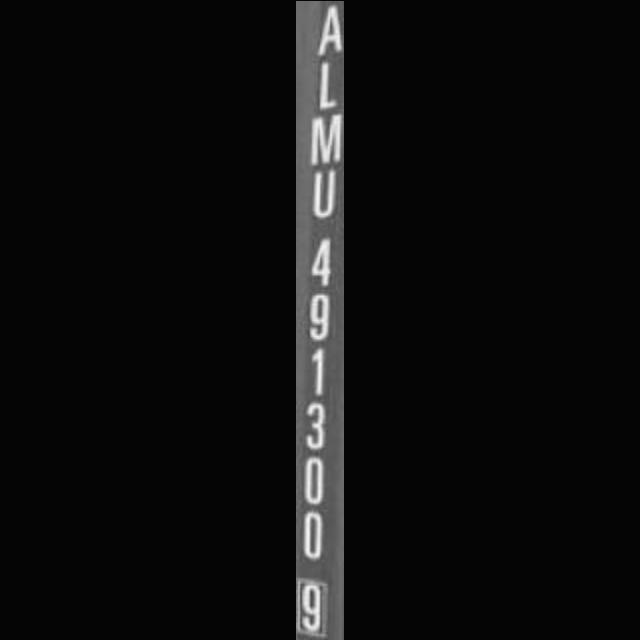0: (296, 447, 336, 511), (296, 508, 334, 570)
1: (296, 344, 344, 396)
3: (296, 396, 344, 452)
4: (298, 225, 344, 289)
9: (296, 288, 344, 344), (298, 572, 332, 640)
a: (311, 0, 344, 56)
l: (304, 53, 344, 114)
m: (298, 110, 344, 172)
u: (302, 166, 344, 227)
